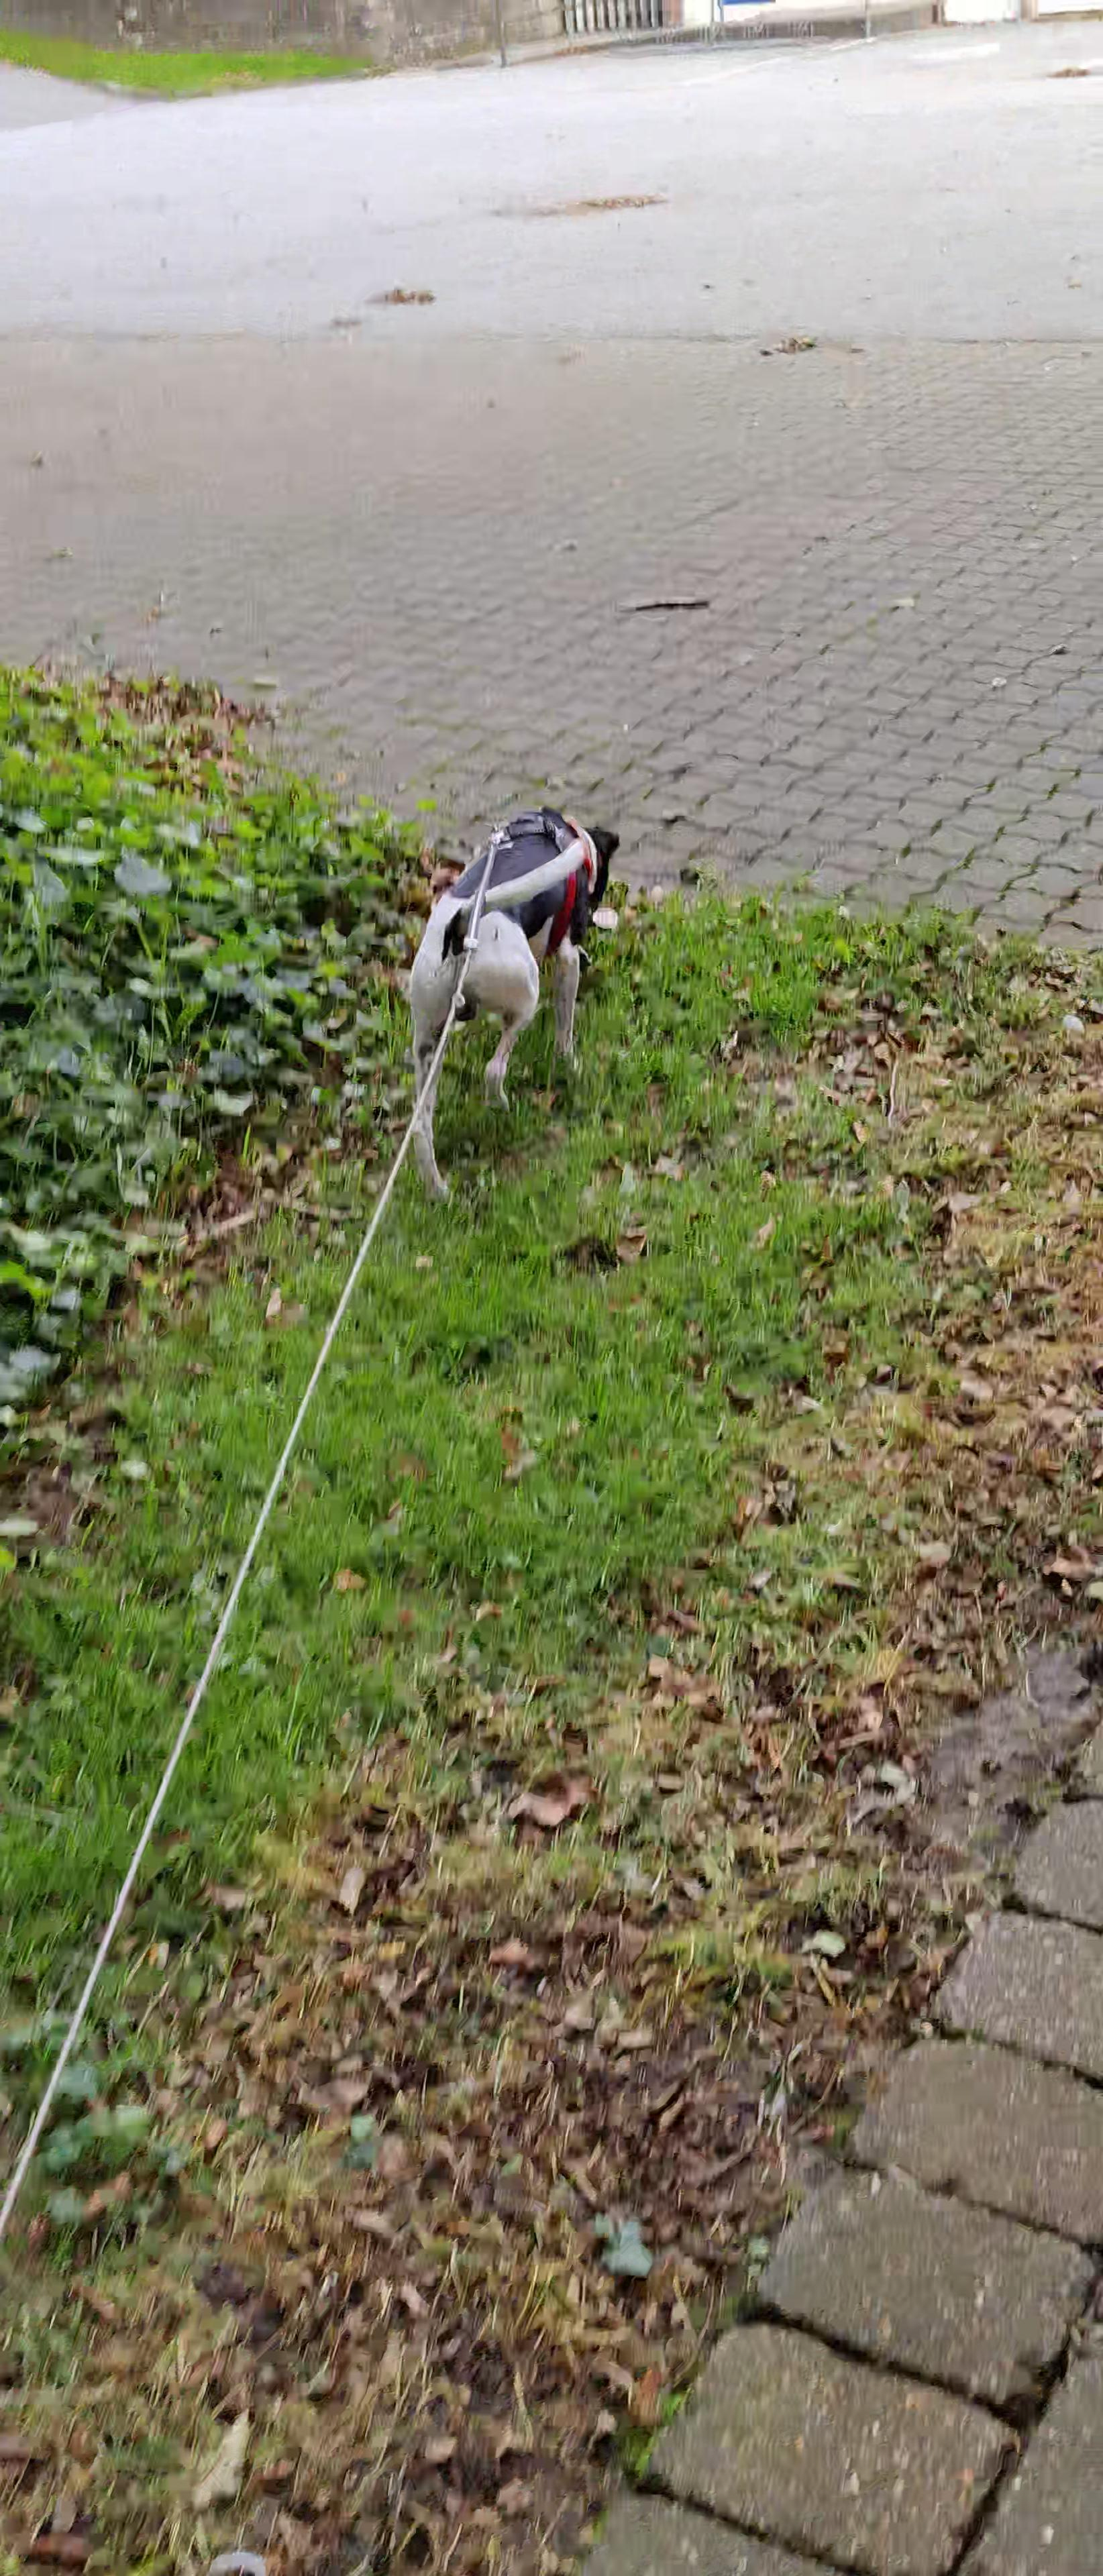Dog: (376, 789, 654, 1219)
